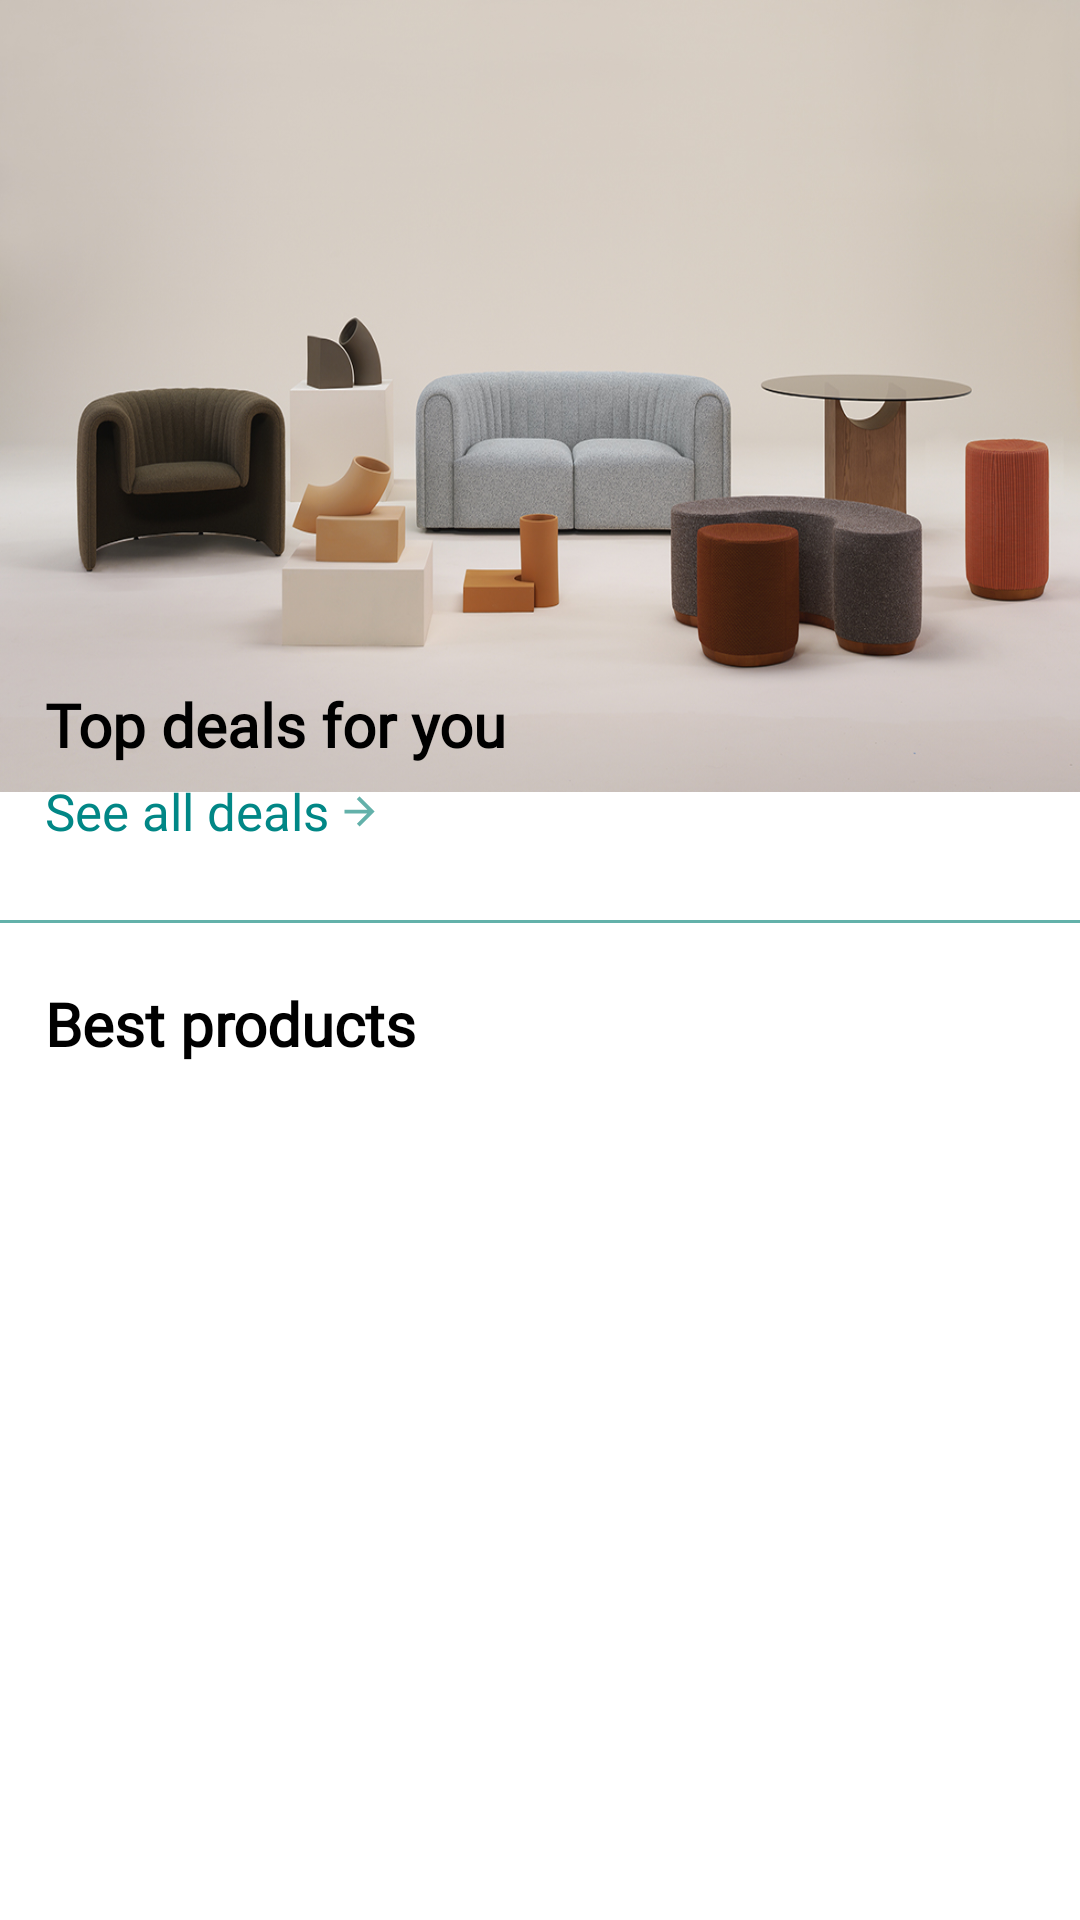

Point at icon controls on the screen. Image size 1080px×1920px, points as point (x, y).
arrow forward: point (359, 811)
